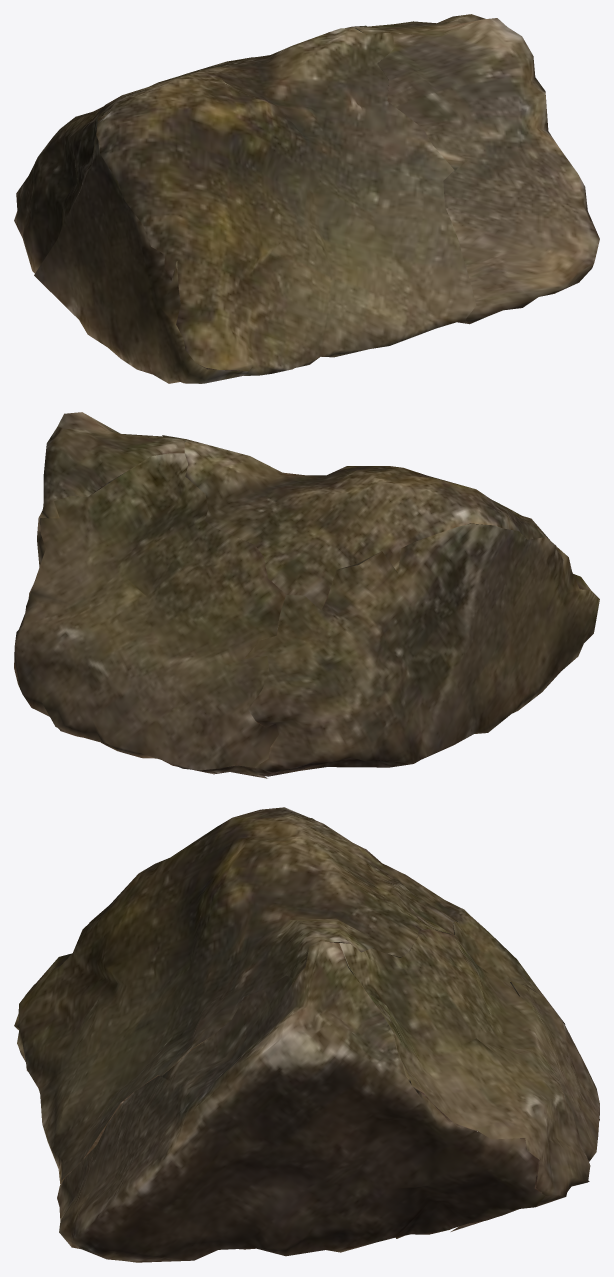
Rendered from pr_moss_a_06.fbx.
The picture shows the model from 3 angles, top to bottom: view 1: azimuth 30°, elevation 25°; view 2: azimuth 150°, elevation 25°; view 3: azimuth 270°, elevation 25°; orthographic projection. The views are drawn at different scales.
Visible parts, largest first — view 1: pr_moss_a_06_LOD0; view 2: pr_moss_a_06_LOD0; view 3: pr_moss_a_06_LOD0.
Part boxes in pixels (bbox=[...]): pr_moss_a_06_LOD0: bbox=[14, 14, 599, 383]; pr_moss_a_06_LOD0: bbox=[14, 412, 599, 778]; pr_moss_a_06_LOD0: bbox=[14, 807, 599, 1262].
Size of what is drawn, in the model's own units: 2.11 by 1.1 by 2.08.
